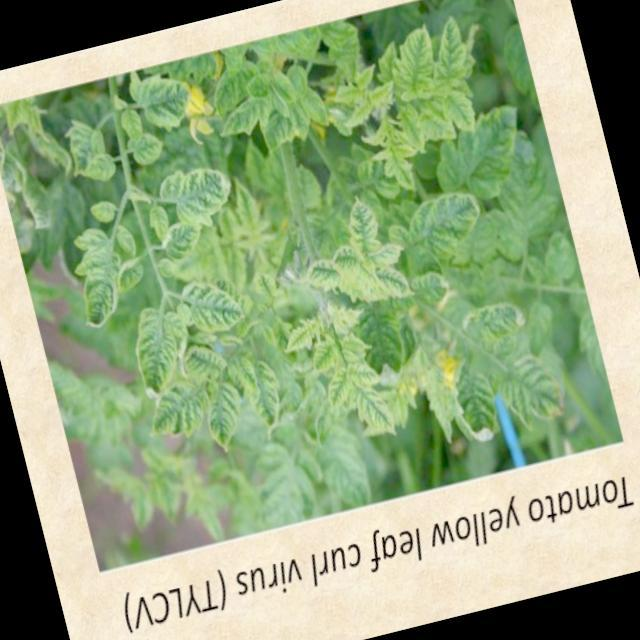Tomato yellow virus leaf: (414, 98, 543, 221), (402, 178, 494, 276), (120, 290, 199, 396), (154, 154, 244, 240), (64, 221, 135, 329), (437, 351, 508, 452), (490, 352, 570, 438), (187, 367, 253, 458), (174, 264, 247, 340), (138, 380, 214, 450), (124, 70, 203, 136), (237, 347, 294, 436), (336, 182, 390, 268), (419, 14, 476, 88), (456, 294, 527, 350), (203, 88, 276, 142), (390, 22, 440, 98), (428, 72, 481, 143), (344, 373, 398, 442), (289, 244, 347, 303), (362, 252, 418, 308), (292, 73, 332, 133), (317, 359, 358, 416), (277, 312, 327, 357), (122, 124, 168, 172), (391, 100, 427, 154), (346, 354, 382, 398)
